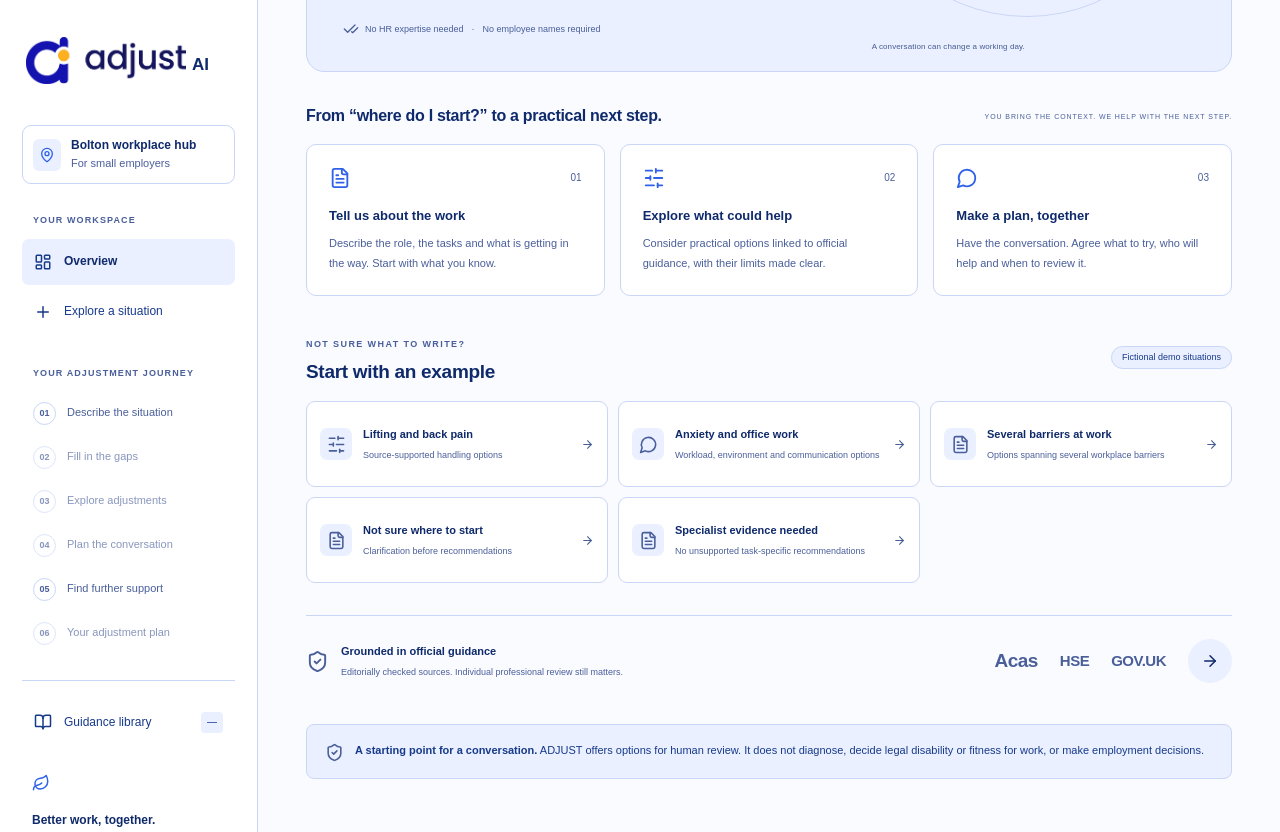
Scenario: shows a recoverable submission error and preserves the description
(page scrolled)
Click the button "Lifting and back pain Source-supported handling options" at (336, 444), box left=306, top=402, right=608, bottom=488
(page scrolled)
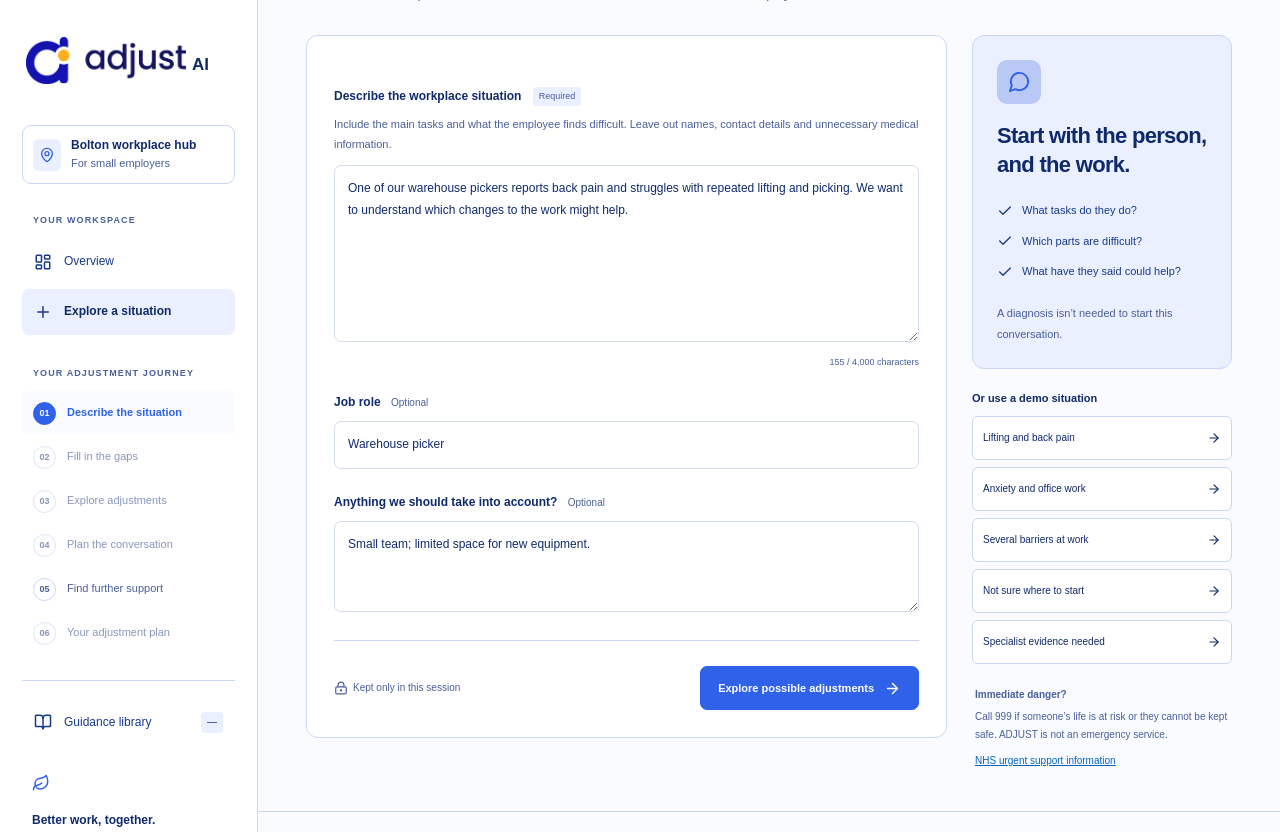
Click the button "Explore possible adjustments" at (810, 688), box left=700, top=666, right=919, bottom=710
(page scrolled)
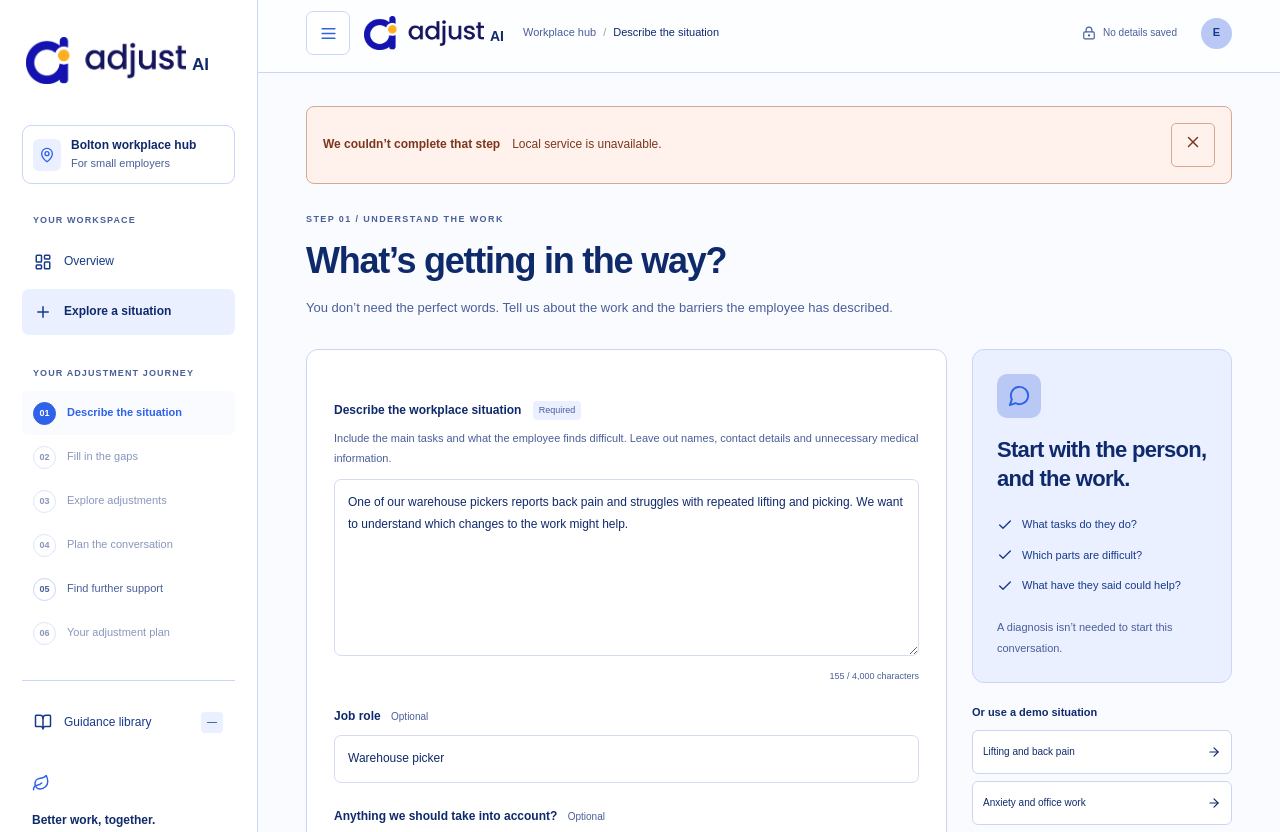
Check: the message shows "Local service is unavailable.", box left=512, top=137, right=662, bottom=151
